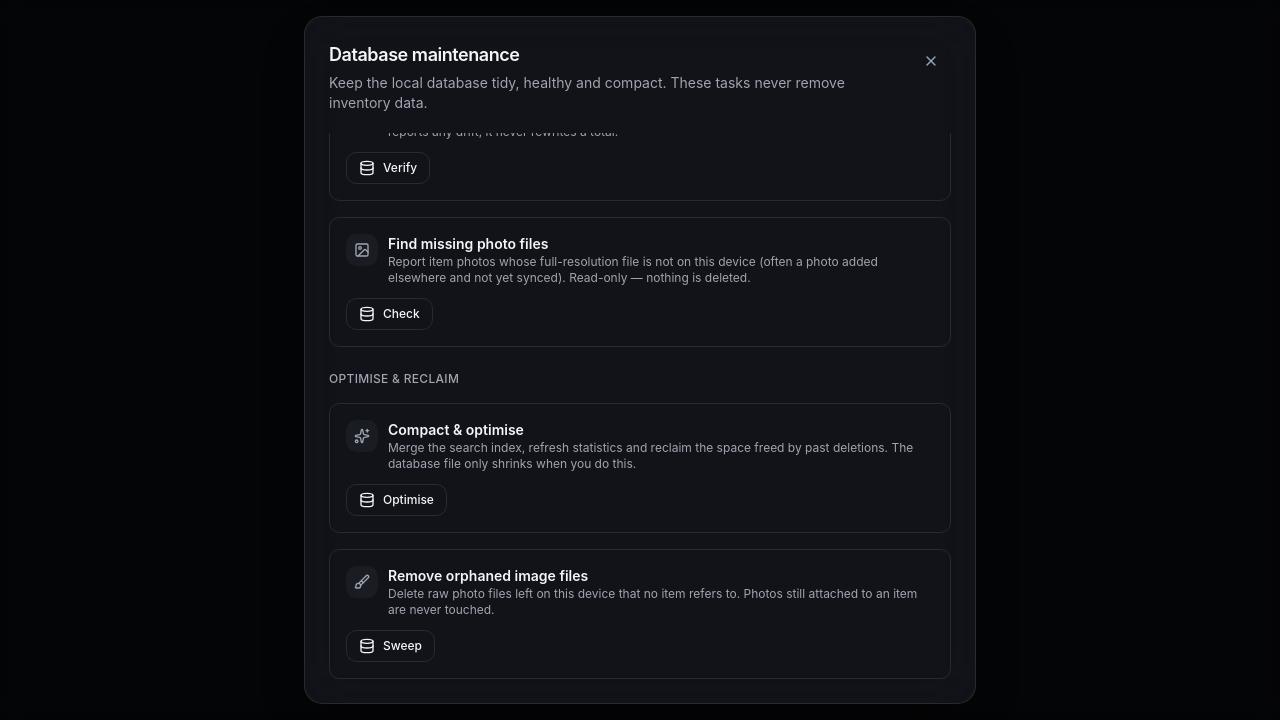
DatabaseMaintenanceDialog › reports the space reclaimed by compaction with its stats
(page scrolled)
Click the button with test id "maintenance-compact-run".
click(396, 500)  # box [346,484,447,516]
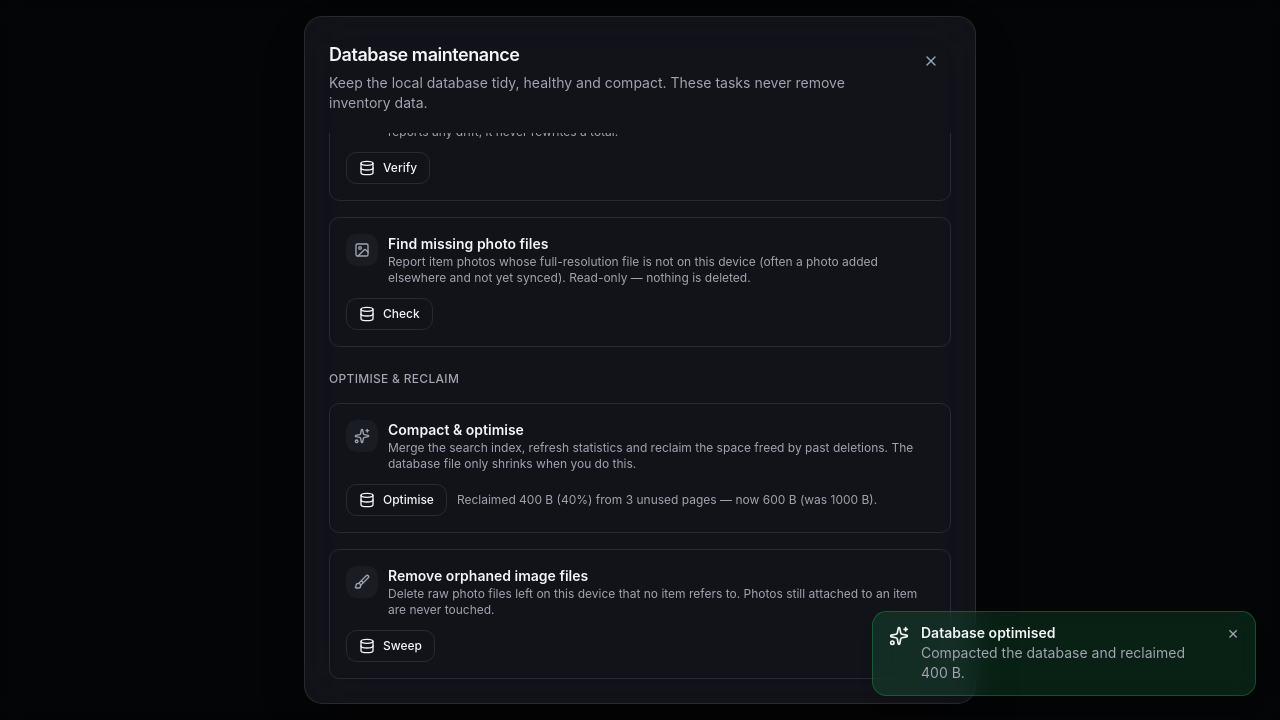
Now the text with test id "maintenance-compact-result" shows "400 B", box [457,492,877,507]
Now the text with test id "maintenance-compact-result" shows "40%", box [457,492,877,507]
Now the text with test id "maintenance-compact-result" shows "3 unused pages", box [457,492,877,507]
